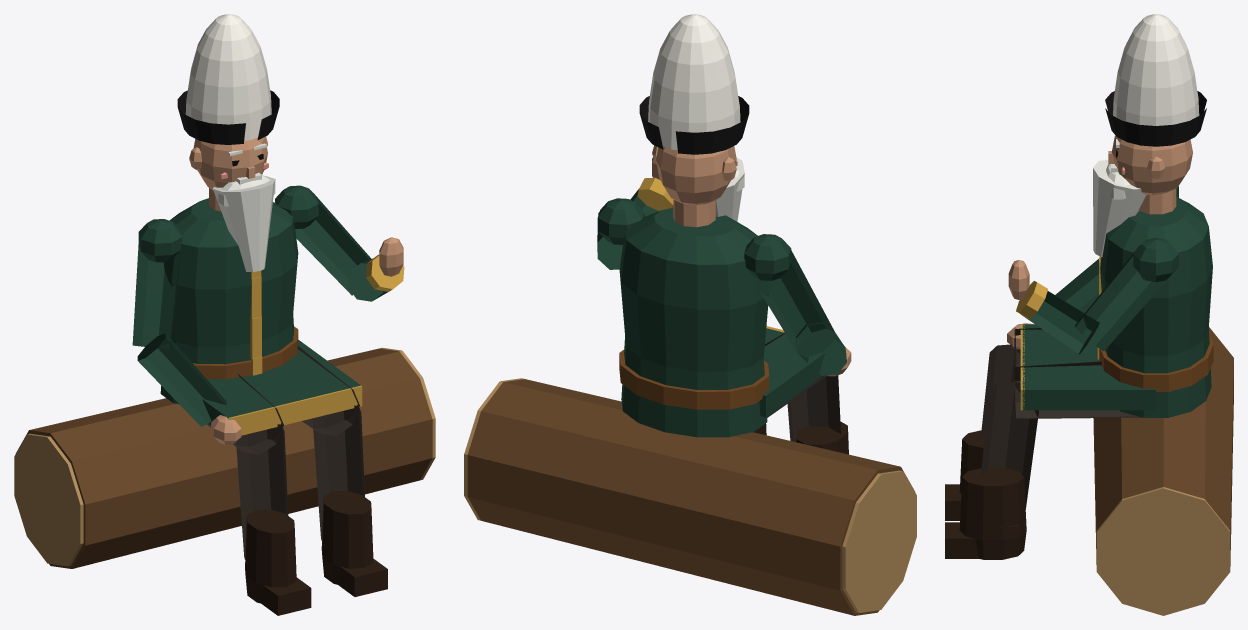
Rendered from NPC_Manaschy.obj.
3 renders of one model, left to right at view 1: azimuth 30°, elevation 25°; view 2: azimuth 150°, elevation 25°; view 3: azimuth 270°, elevation 25°, orthographic. The views are drawn at different scales.
Visible parts, largest first — view 1: NPC_Manaschy; view 2: NPC_Manaschy; view 3: NPC_Manaschy.
Boxes of the visible parts, x1,y1,x2,y2 form: NPC_Manaschy: [14, 14, 435, 615]; NPC_Manaschy: [464, 14, 916, 615]; NPC_Manaschy: [945, 14, 1233, 615].
Size of the model in its own units: 1.12 by 1.54 by 0.7802.
